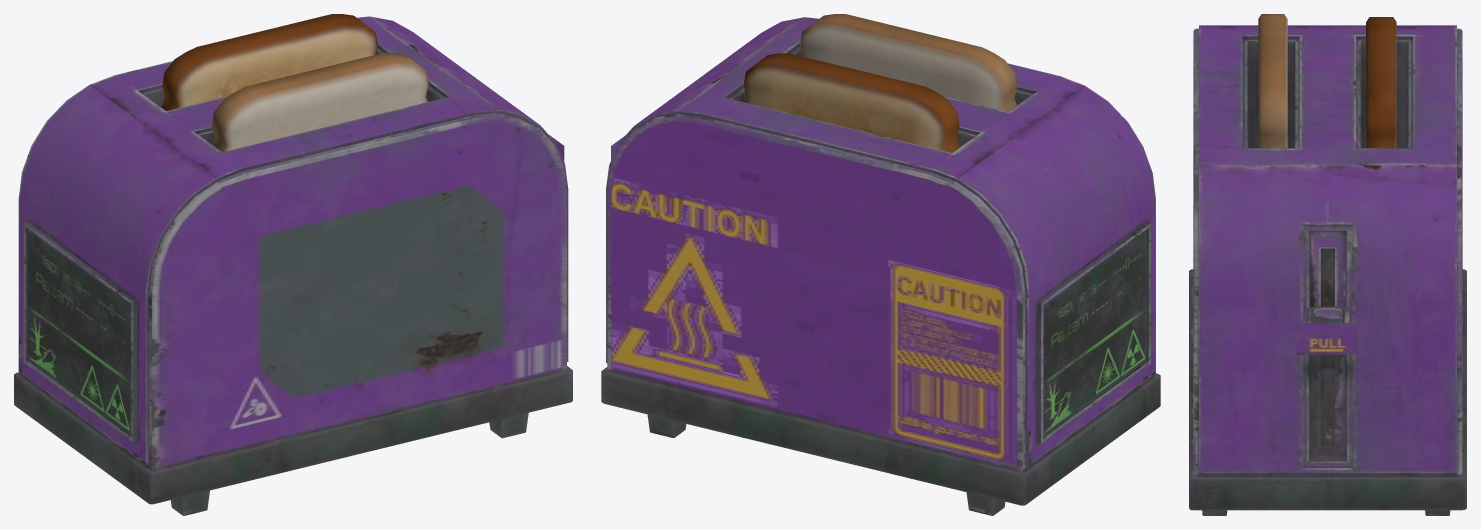
The model's file is toaster.glb.
The picture shows the model from 3 angles, left to right: view 1: azimuth 30°, elevation 25°; view 2: azimuth 150°, elevation 25°; view 3: azimuth 270°, elevation 25°; orthographic projection.
Parts seen in each view (by area): view 1: Plane, Toast0, Toast1; view 2: Plane, Toast1, Toast0; view 3: Plane, Toast1, Toast0, LEVER.
Part boxes in pixels (bbox=[...]): Plane: bbox=[14, 16, 572, 515]; Toast0: bbox=[211, 53, 428, 151]; Toast1: bbox=[161, 14, 377, 110]; Plane: bbox=[601, 17, 1160, 515]; Toast1: bbox=[743, 53, 960, 152]; Toast0: bbox=[800, 14, 1017, 111]; Plane: bbox=[1189, 25, 1466, 515]; Toast1: bbox=[1366, 17, 1396, 148]; Toast0: bbox=[1258, 14, 1287, 148]; LEVER: bbox=[1296, 306, 1357, 354].
Bounding box in the file's own units: 6.56 × 5 × 3.31.
Materials: 2 (2 with a texture image).
